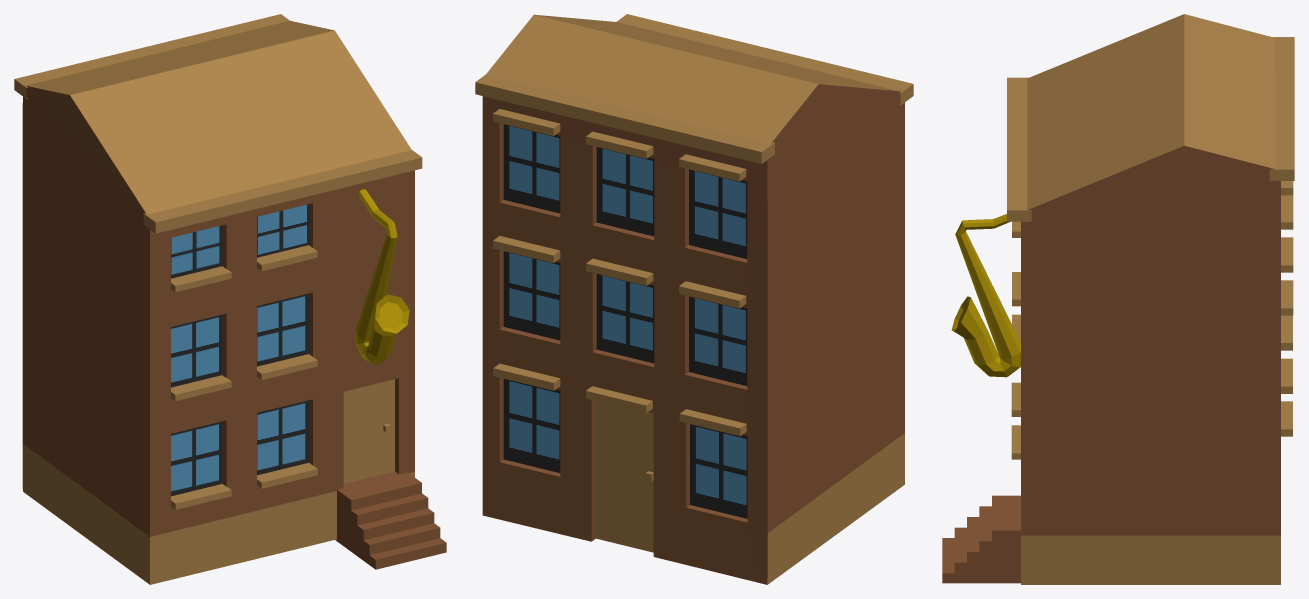
The model's file is JazzSaxophone3.obj.
The picture shows the model from 3 angles, left to right: view 1: azimuth 30°, elevation 25°; view 2: azimuth 150°, elevation 25°; view 3: azimuth 270°, elevation 25°; orthographic projection. The views are drawn at different scales.
Visible parts, largest first — view 1: Saksofon.002; view 2: Saksofon.002; view 3: Saksofon.002.
Part boxes in pixels (<box>): Saksofon.002: <box>14,14,446,584</box>; Saksofon.002: <box>475,14,913,584</box>; Saksofon.002: <box>942,14,1294,584</box>.
Bounding box in the file's own units: 6.03 × 9.37 × 6.78.
